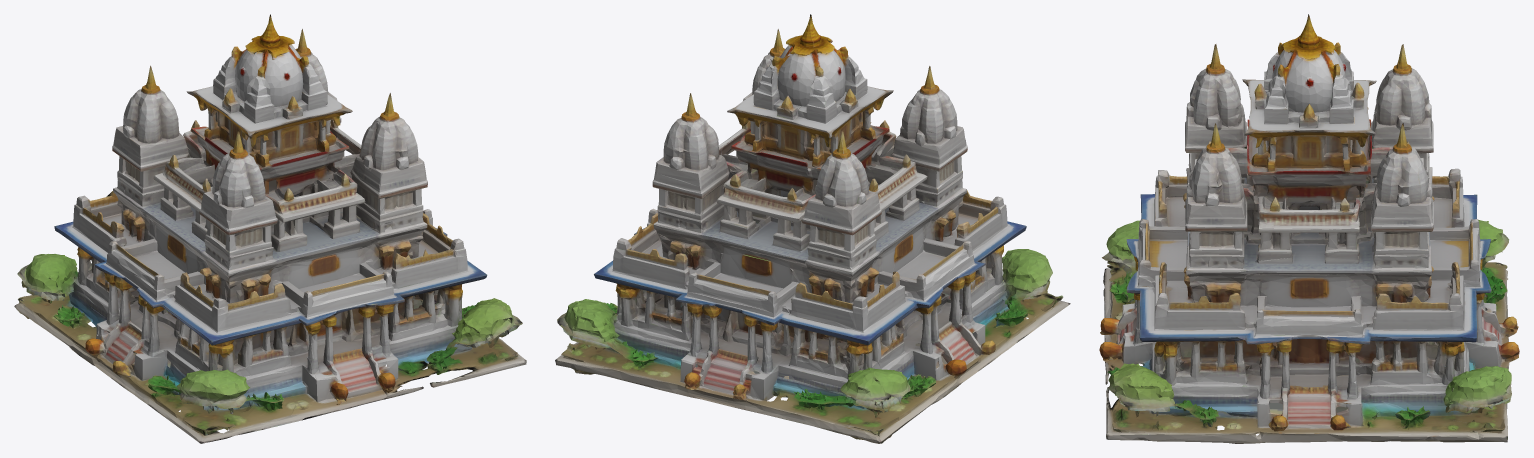
The model's file is temple.glb.
3 renders of one model, left to right at view 1: azimuth 30°, elevation 25°; view 2: azimuth 150°, elevation 25°; view 3: azimuth 270°, elevation 25°, orthographic. The views are drawn at different scales.
Parts seen in each view (by area): view 1: world; view 2: world; view 3: world.
Part boxes in pixels (left/top/right/bottom): world: left=14, top=14, right=526, bottom=443; world: left=555, top=14, right=1070, bottom=443; world: left=1099, top=14, right=1519, bottom=443.
Bounding box in the file's own units: 0.9955 × 0.9094 × 0.9958.
1 material, 1 textured.
